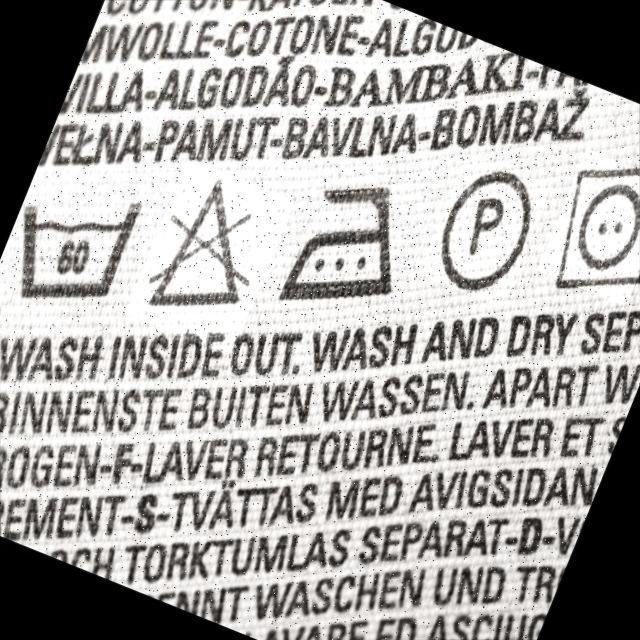60C: (13, 194, 144, 302)
DN_bleach: (150, 179, 250, 310)
dry_clean_any_solvent_except_trichloroethylene: (427, 167, 539, 296)
iron_high: (281, 181, 405, 305)
tumble_dry_medium: (560, 163, 640, 299)
